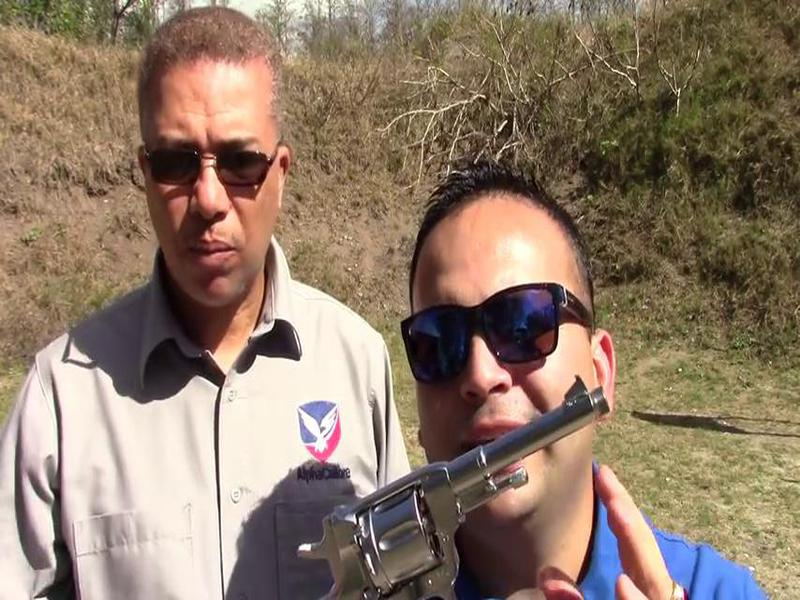Revolver: (298, 380, 615, 600)
